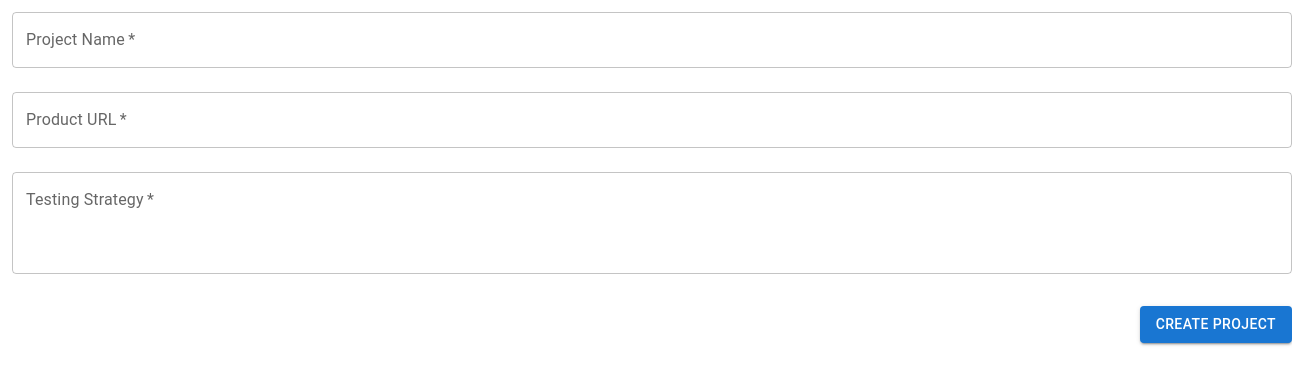
Test: ProjectForm › shows validation error when productUrl is invalid
Type "My Project" into the field labelled "Project Name *". click: (652, 40)
box: [12,12,1292,68]
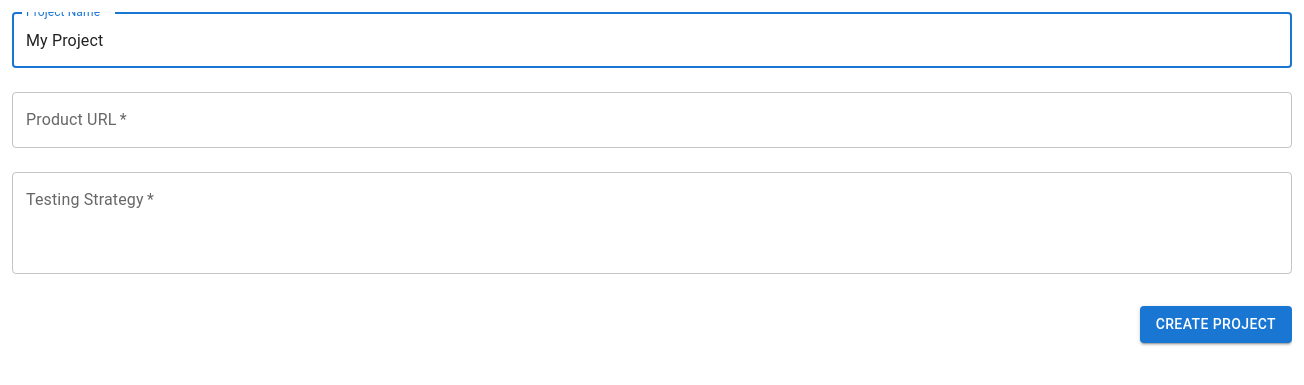
Type "not-a-url" into the field labelled "Product URL *". click: (652, 120)
box: [12,92,1292,148]
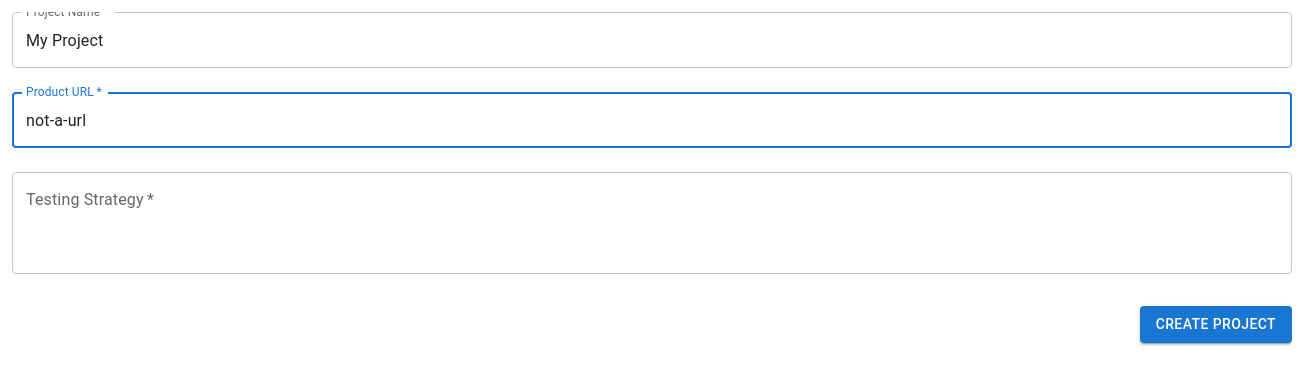
Type "Some strategy" into the text box labelled "Testing Strategy *". click: (652, 223)
box: [26,188,1278,258]
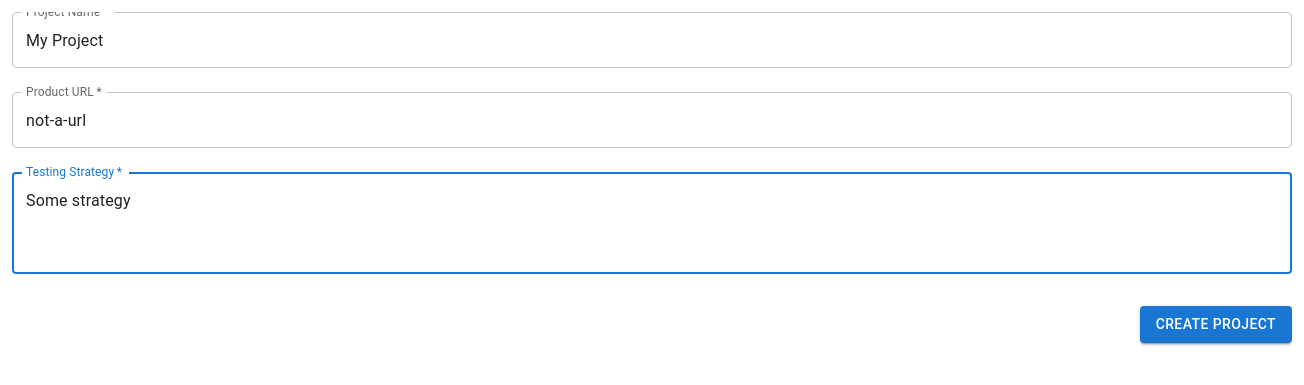
Click the button "Create Project". click: (1216, 324)
box: [1140,306,1292,342]
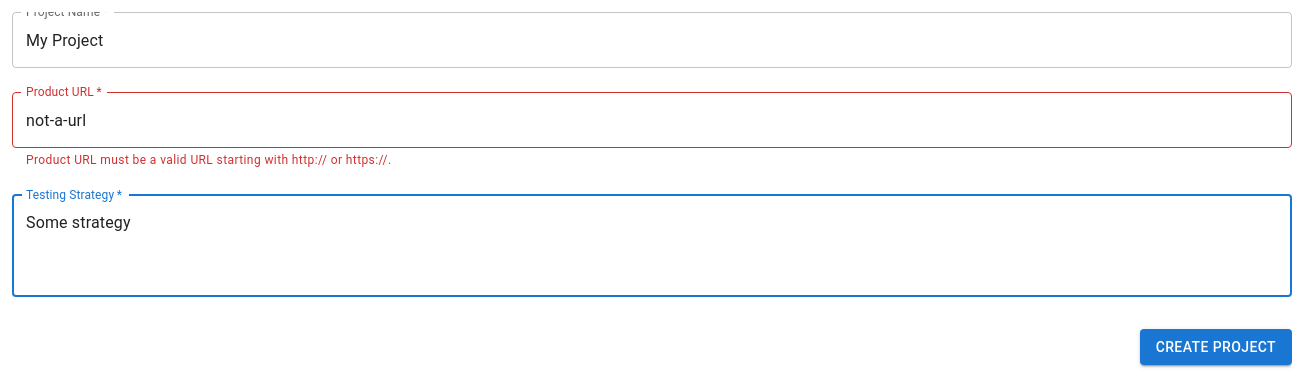
Now the text "Product URL must be a valid URL starting with http:// or https://." is shown, box [26,153,392,167]
